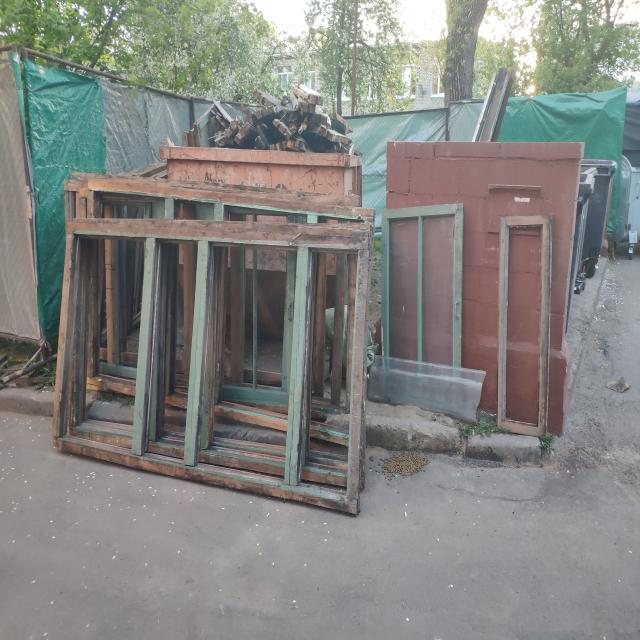entulho: (52, 170, 376, 518), (383, 211, 465, 367), (160, 146, 364, 206), (498, 216, 550, 442), (201, 85, 352, 152), (371, 358, 486, 421)
